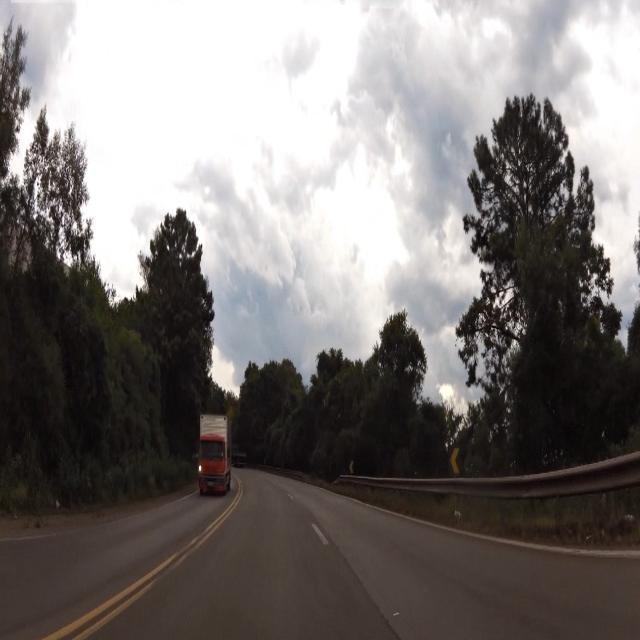E-5: (447, 442, 461, 479)
